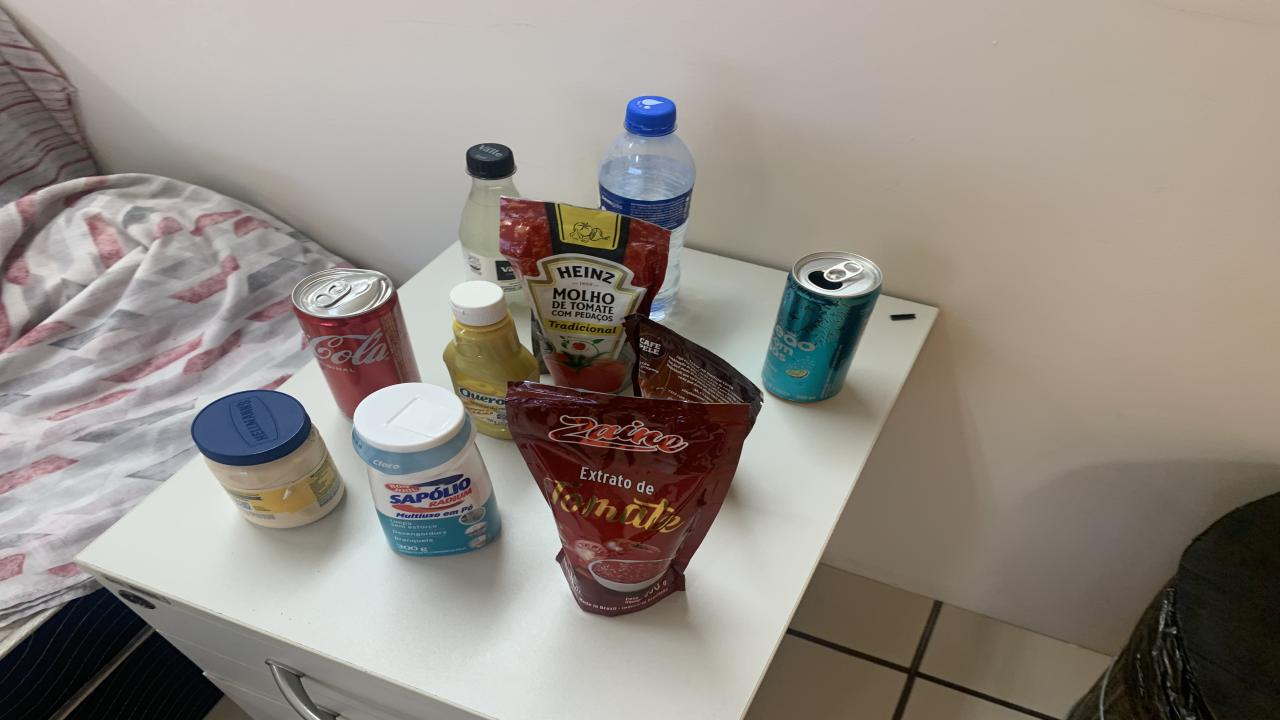Cleaner-Cleanup_Items: (352, 382, 500, 557)
Coffee-Pantry_Items: (625, 313, 762, 426)
Coke-Drinks: (290, 268, 420, 416)
Mayonnaise-Pantry_Items: (190, 390, 345, 529)
Mustard-Pantry_Items: (445, 279, 540, 439)
Soda-Drinks: (458, 142, 528, 306)
Tea-Drinks: (762, 251, 882, 401)
Tomato_Sauce-Pantry_Items: (505, 382, 752, 617), (500, 197, 670, 394)
Water_Bottle-Drinks: (598, 96, 695, 319)
